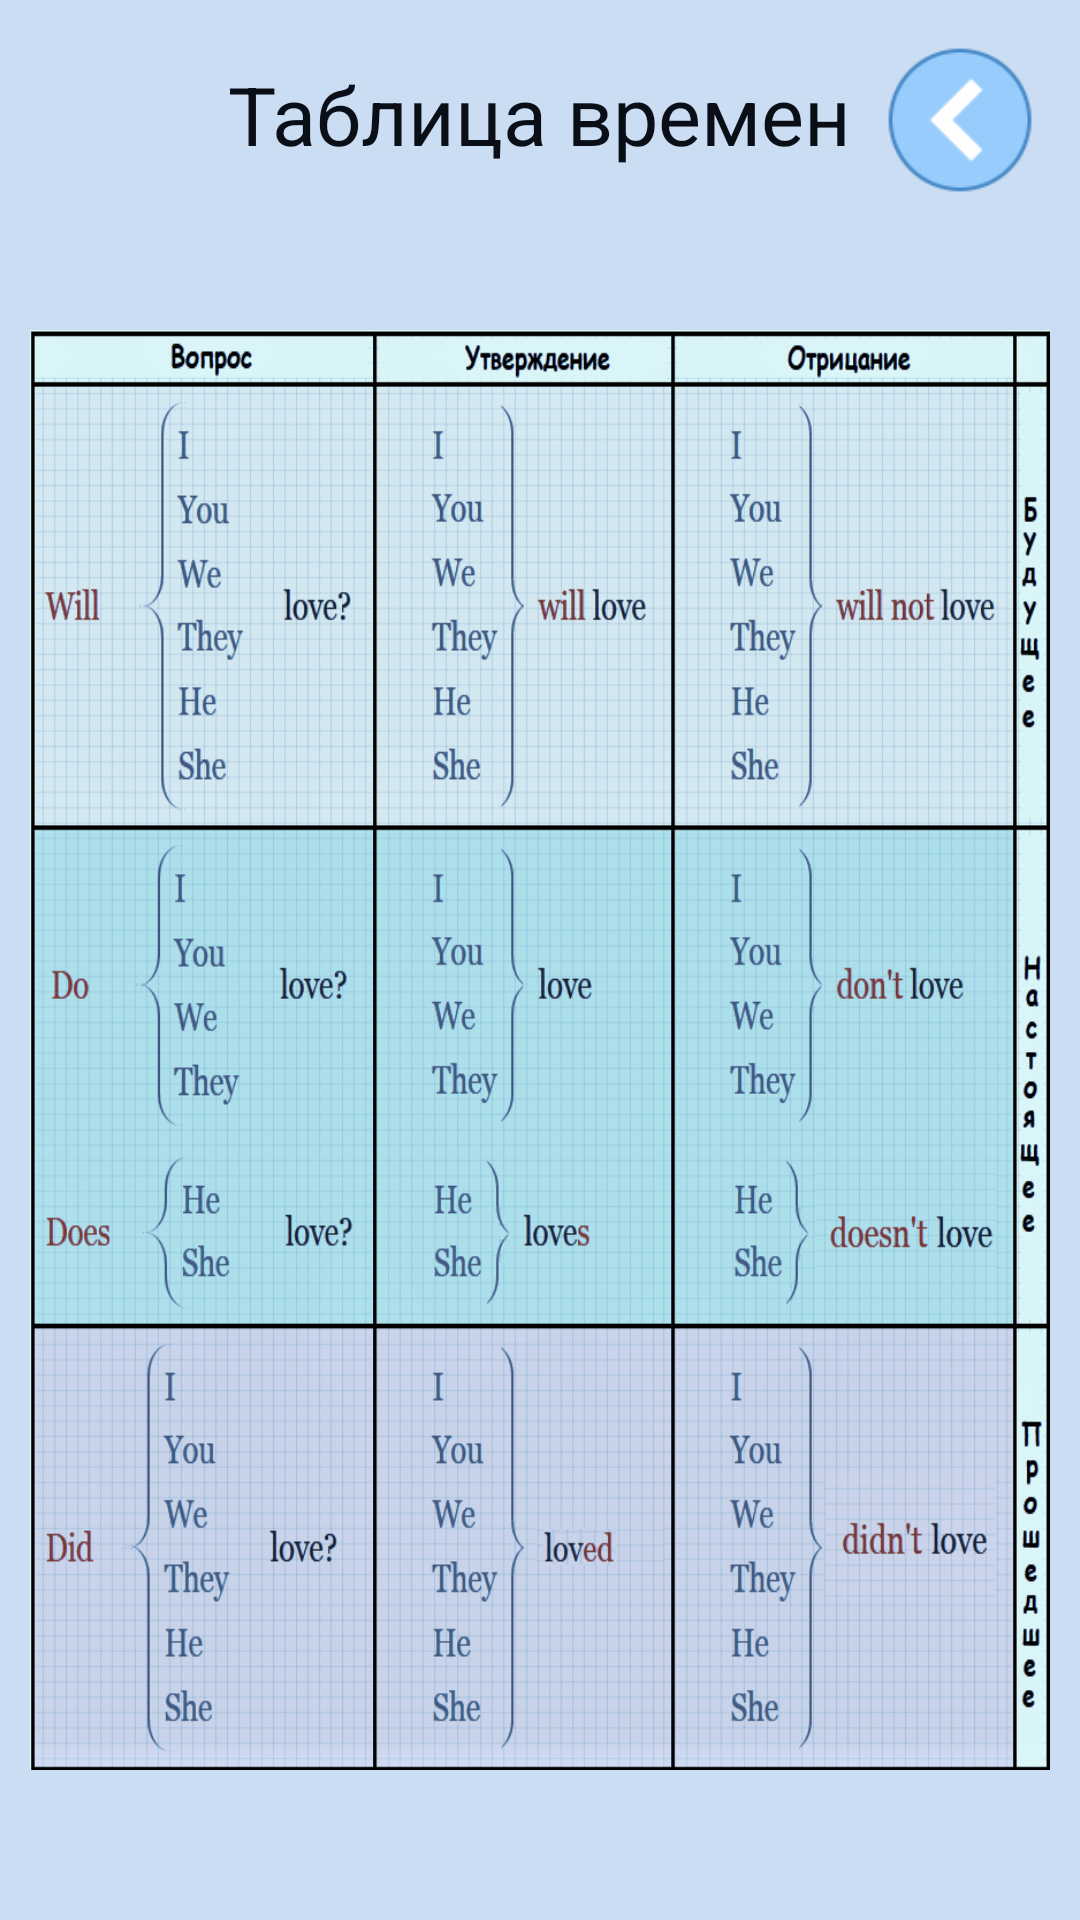

Named icons in this screenshot (1080 × 1920) and their centers, (x=x, y=y):
arrow menu: (x=960, y=120)
